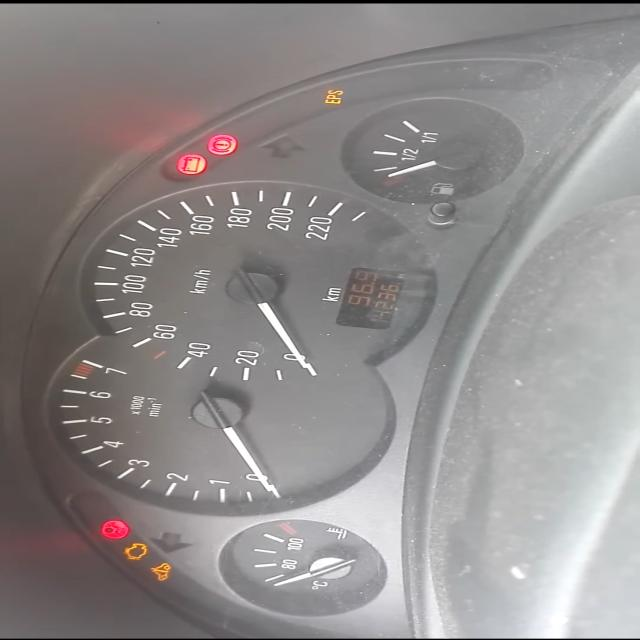Braking System Issue: (206, 133, 239, 155)
Charging System Issue: (175, 153, 208, 175)
Check Engine: (123, 542, 149, 560)
SRS-Airbag: (100, 518, 130, 538)
